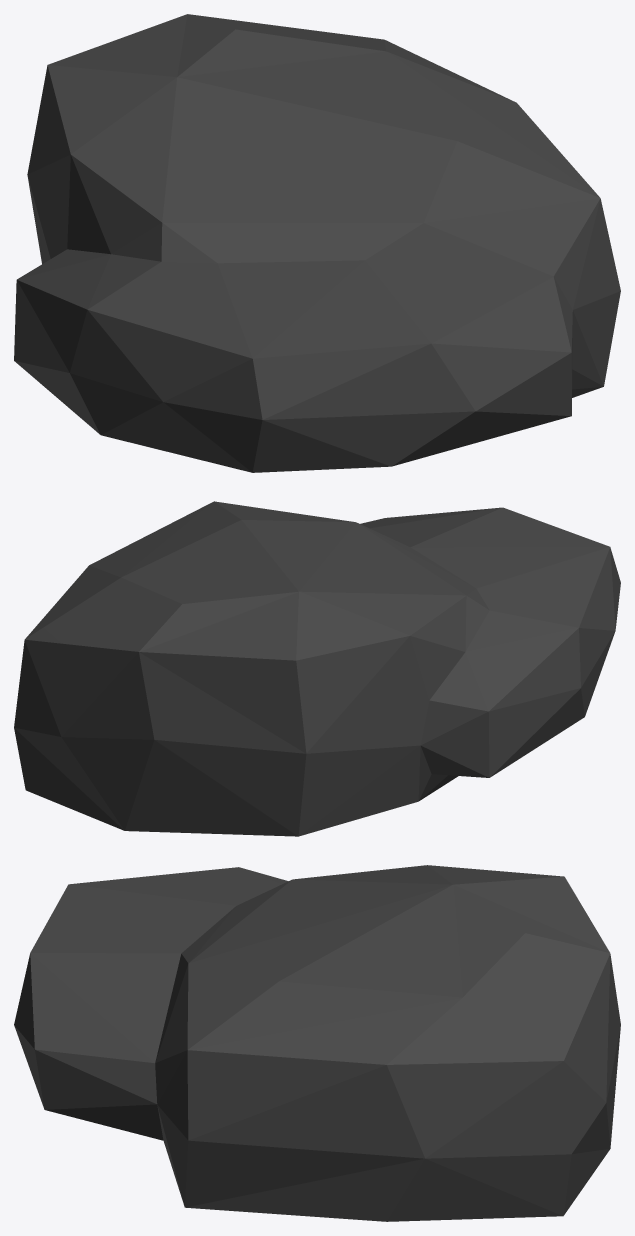
File: rock__rock6_natural_dark.glb
3 views of the same model, one above another, from view 1: azimuth 30°, elevation 25°; view 2: azimuth 150°, elevation 25°; view 3: azimuth 270°, elevation 25° (orthographic). The views are drawn at different scales.
Parts seen in each view (by area): view 1: rock6.natural.dark; view 2: rock6.natural.dark; view 3: rock6.natural.dark.
Boxes of the visible parts, <box> form: rock6.natural.dark: <box>14,14,620,472</box>; rock6.natural.dark: <box>14,501,620,836</box>; rock6.natural.dark: <box>14,865,620,1221</box>.
Size of the model in its own units: 2.7 by 1.34 by 3.14.
1 material, 1 textured.
